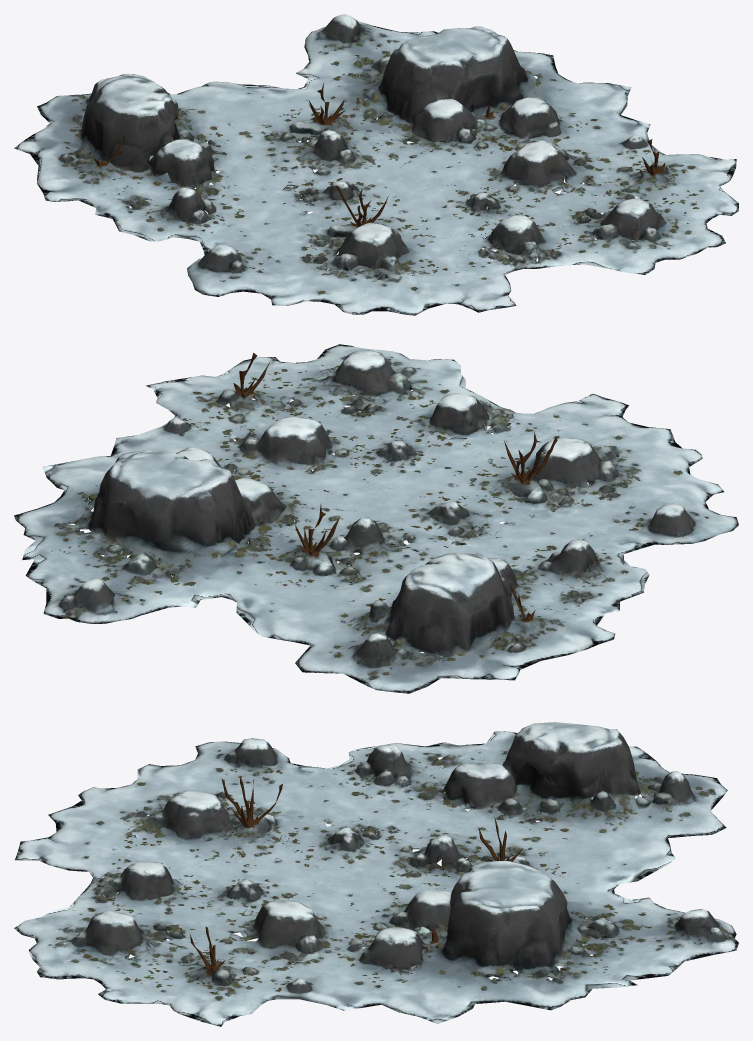
File: snow-ground-2.glb
3 views of the same model, one above another, from view 1: azimuth 30°, elevation 25°; view 2: azimuth 150°, elevation 25°; view 3: azimuth 270°, elevation 25° (orthographic). The views are drawn at different scales.
Parts seen in each view (by area): view 1: geometry_0; view 2: geometry_0; view 3: geometry_0.
Boxes of the visible parts, x1,y1,x2,y2 form: geometry_0: [14, 14, 738, 315]; geometry_0: [14, 344, 738, 693]; geometry_0: [14, 722, 738, 1026].
Bounding box in the file's own units: 0.9612 × 0.0969 × 0.9939.
Materials: 1 (1 with a texture image).
